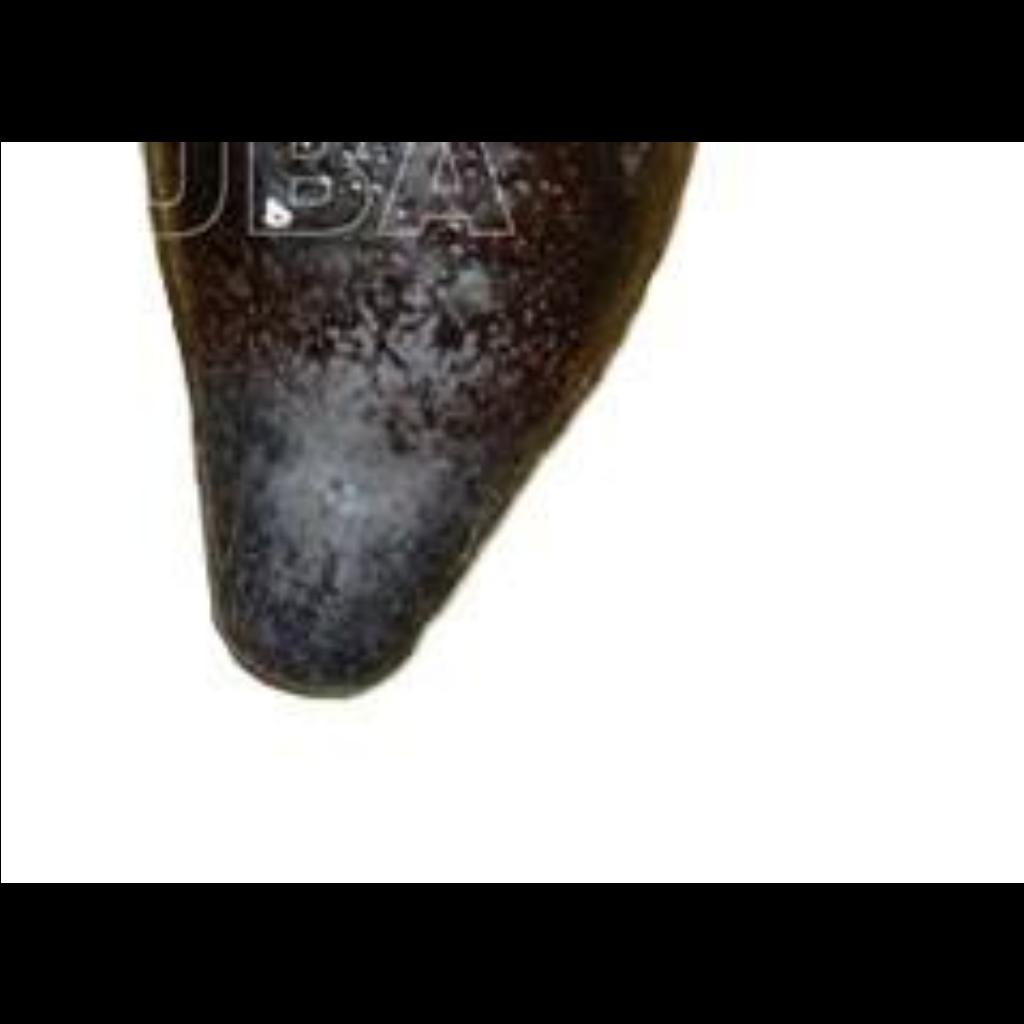antracnosis_fruto: (165, 147, 546, 623)
